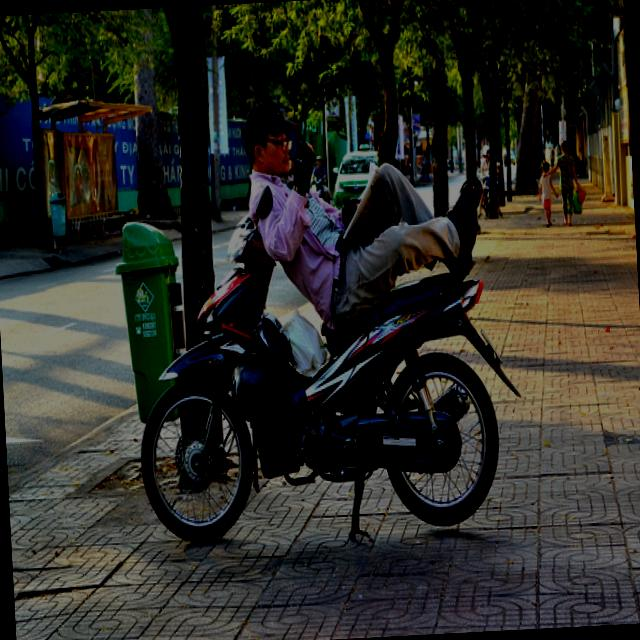Vehicle: (120, 192, 526, 570), (332, 143, 382, 204), (501, 146, 518, 193)
